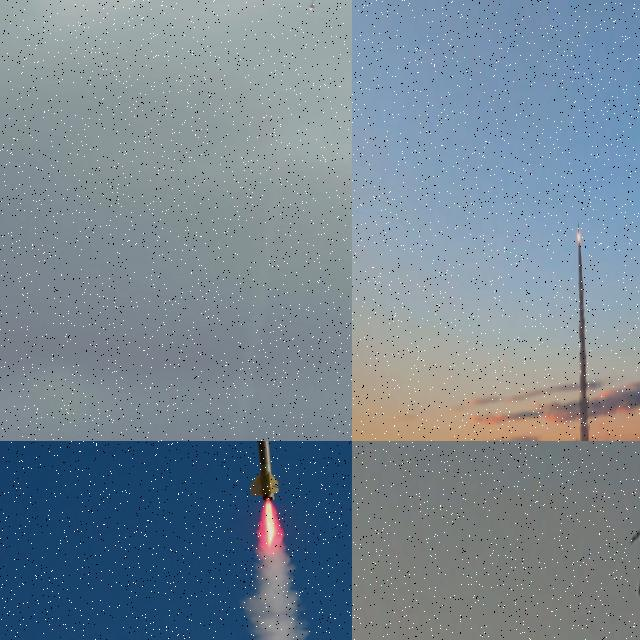Rocket: (249, 441, 280, 501), (309, 0, 316, 8), (638, 579, 640, 595), (578, 220, 580, 233)
